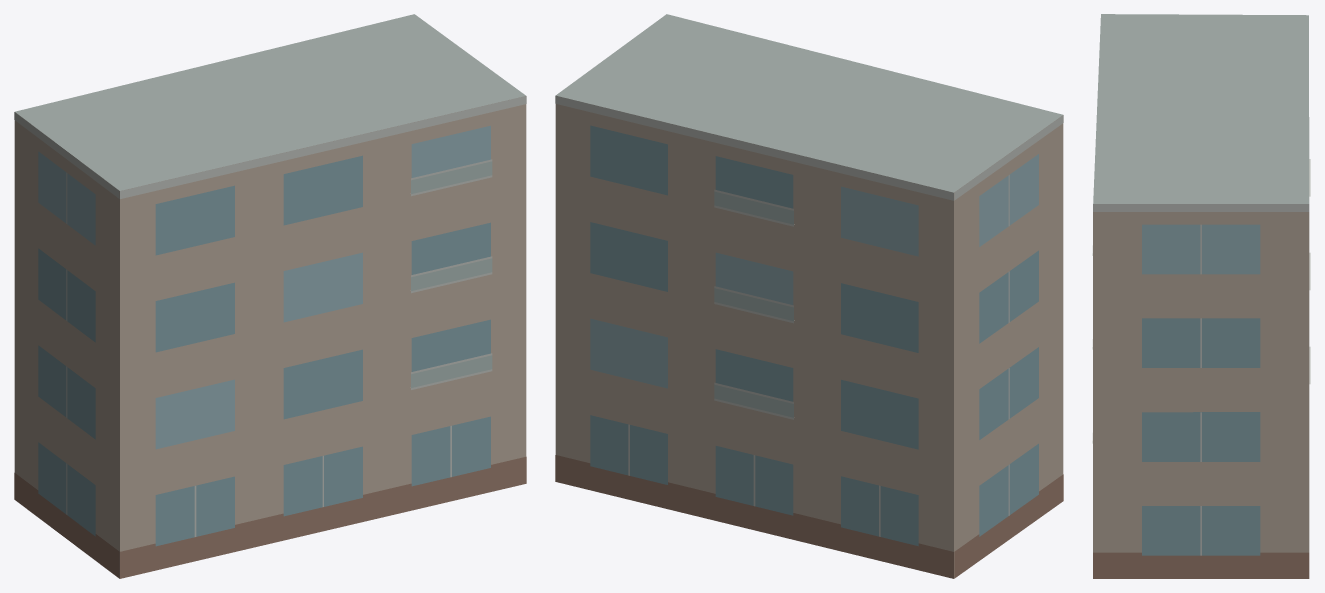
Rendered from survey-upis-33020438.glb.
3 views of the same model, side by side, from view 1: azimuth 30°, elevation 25°; view 2: azimuth 150°, elevation 25°; view 3: azimuth 270°, elevation 25° (orthographic). The views are drawn at different scales.
Visible parts, largest first — view 1: survey-upis-33020438.tmp; view 2: survey-upis-33020438.tmp; view 3: survey-upis-33020438.tmp.
Boxes of the visible parts, <box> form: survey-upis-33020438.tmp: <box>14,14,526,578</box>; survey-upis-33020438.tmp: <box>555,14,1063,578</box>; survey-upis-33020438.tmp: <box>1092,14,1310,578</box>.
Bounding box in the file's own units: 12.5 × 11.5 × 6.07.
